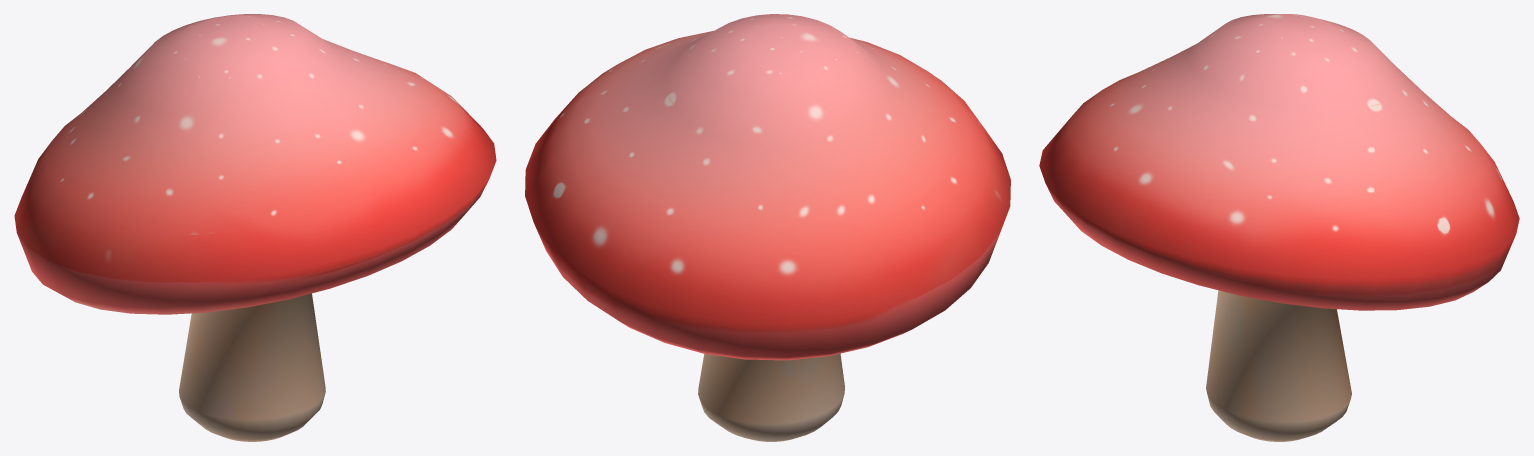
3 views of the same model, side by side, from view 1: azimuth 30°, elevation 25°; view 2: azimuth 150°, elevation 25°; view 3: azimuth 270°, elevation 25° (orthographic).
Parts seen in each view (by area): view 1: shrom; view 2: shrom; view 3: shrom.
Part boxes in pixels (bbox=[...]): shrom: bbox=[14, 14, 496, 441]; shrom: bbox=[525, 14, 1010, 441]; shrom: bbox=[1039, 14, 1519, 441].
Bounding box in the file's own units: 2.96 × 2.69 × 2.95.
1 material, 1 textured.
